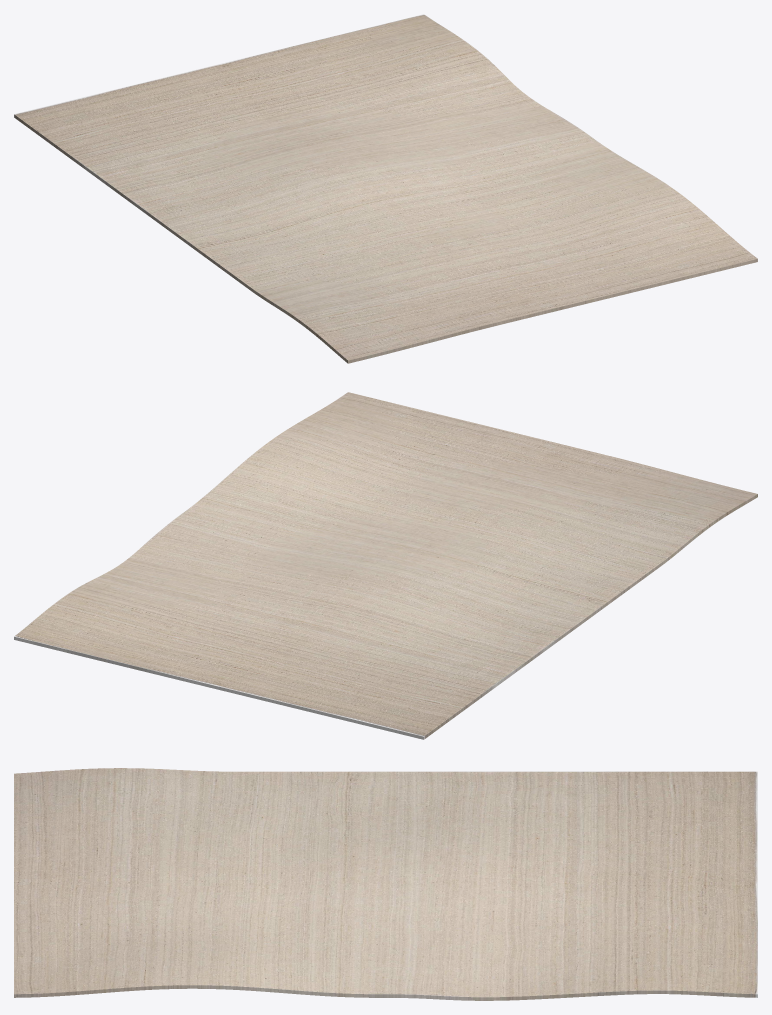
Rendered from 21700_SandNomadKilimRug.glb.
3 views of the same model, one above another, from view 1: azimuth 30°, elevation 25°; view 2: azimuth 150°, elevation 25°; view 3: azimuth 270°, elevation 25° (orthographic). The views are drawn at different scales.
Parts seen in each view (by area): view 1: Component; view 2: Component; view 3: Component.
Boxes of the visible parts, box(x1,y1,x2,y2) form: Component: box(14, 14, 757, 363); Component: box(14, 392, 757, 739); Component: box(14, 768, 757, 1000).
Size of the model in its own units: 1.7 by 0.0589 by 2.4.
1 material, 1 textured.
